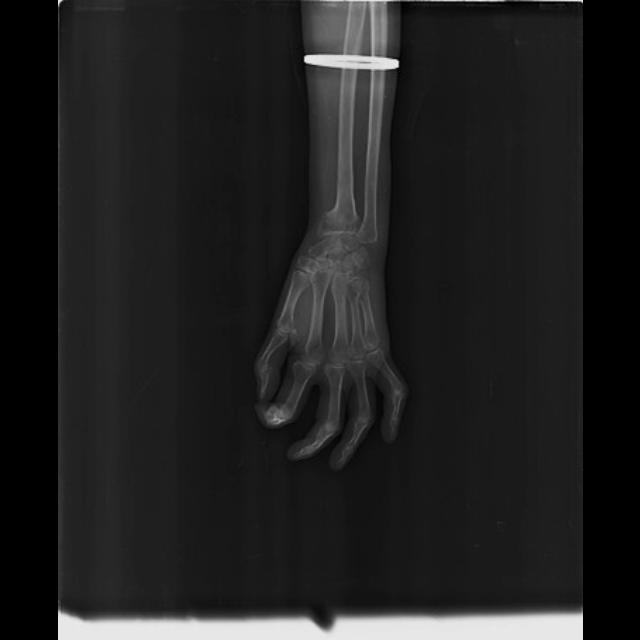Fracture: (315, 206, 363, 235)
